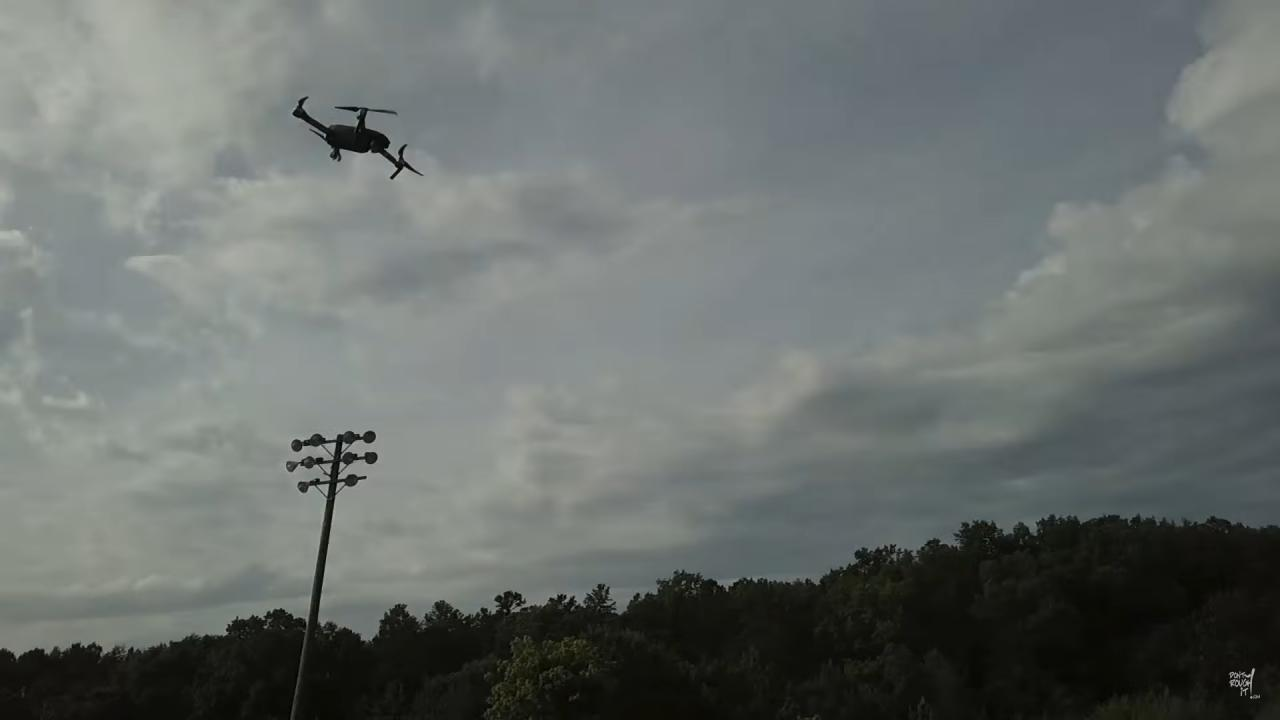Drone: (278, 88, 428, 191)
